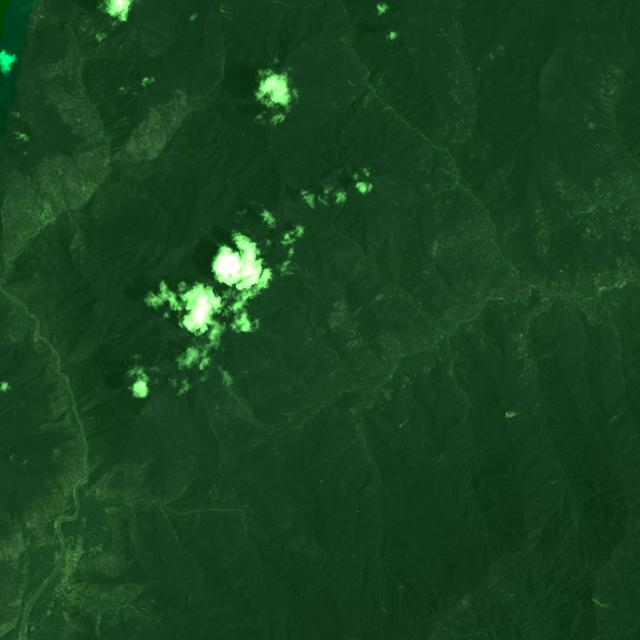landslides: (63, 611, 92, 637), (39, 411, 72, 431), (27, 622, 53, 640), (597, 532, 618, 548), (376, 68, 387, 91), (505, 408, 525, 418), (364, 93, 376, 108), (461, 597, 472, 613), (610, 411, 625, 422), (594, 599, 612, 607), (589, 121, 607, 129), (95, 613, 101, 636), (77, 394, 89, 404), (282, 412, 296, 420), (212, 78, 220, 91)
